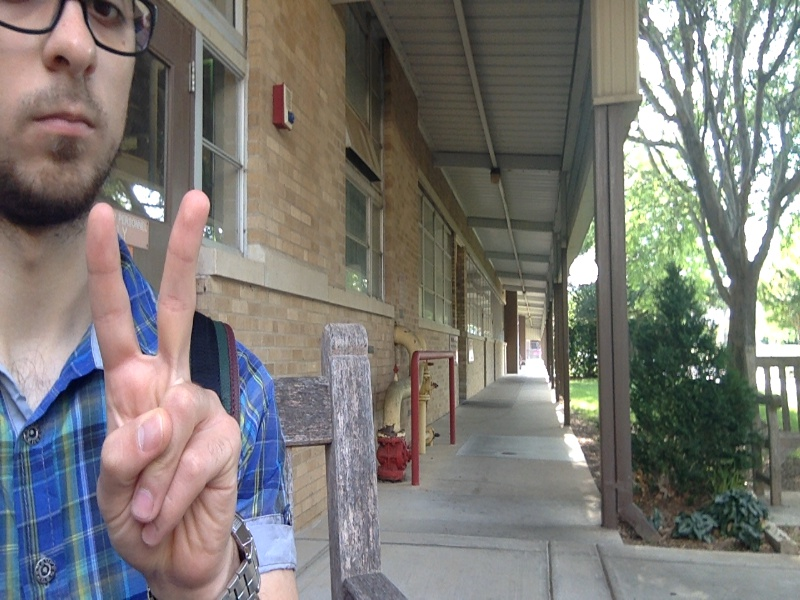2-hand: (88, 193, 239, 580)
